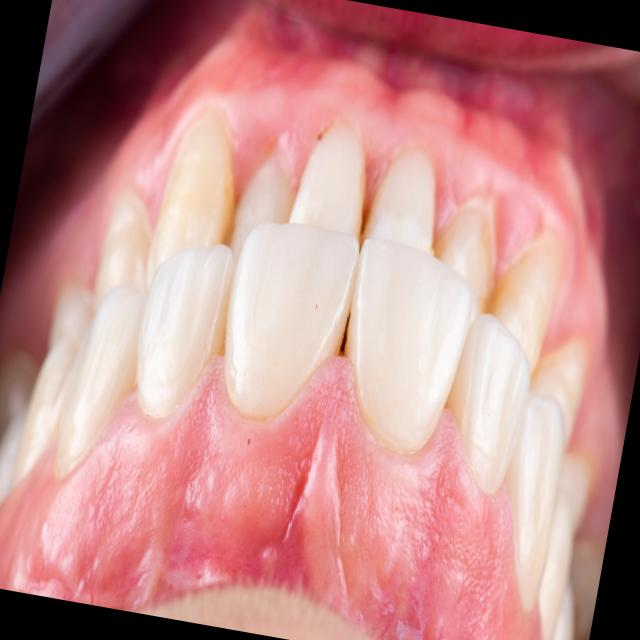Tooth: (344, 237, 472, 454), (224, 221, 360, 419), (52, 285, 146, 483), (136, 243, 234, 416), (146, 111, 236, 295), (444, 312, 530, 495), (503, 389, 565, 616), (9, 333, 78, 490), (489, 236, 563, 382), (287, 122, 366, 241), (360, 151, 436, 251), (228, 154, 293, 268), (433, 203, 494, 324), (94, 193, 148, 313)
